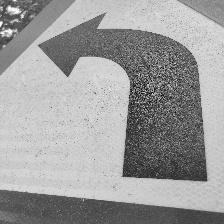Left-Turn: (0, 1, 222, 221)
